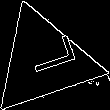L_W: (14, 38, 74, 84)
